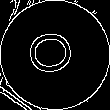O_E: (27, 30, 83, 80)
